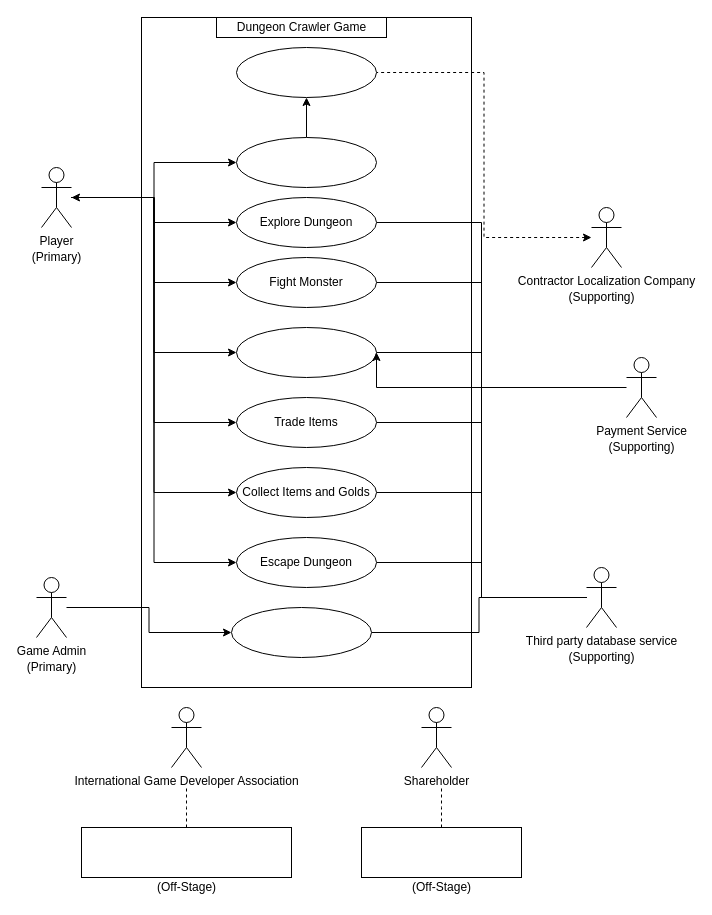
Image size: 712x915. Some labels were removed from this diagram. The centre of each missing label's shape, as x and y in pixels:
"Add items to the store" belongs at point 301,632.
"Fetch Locale" belongs at point 306,72.
"Initiaize the game" belongs at point 306,162.
"Is part of the software company that develops the game" belongs at point 441,852.
"Organization serving all individuals to create game" belongs at point 186,852.
"Purchase Items" belongs at point 306,352.
